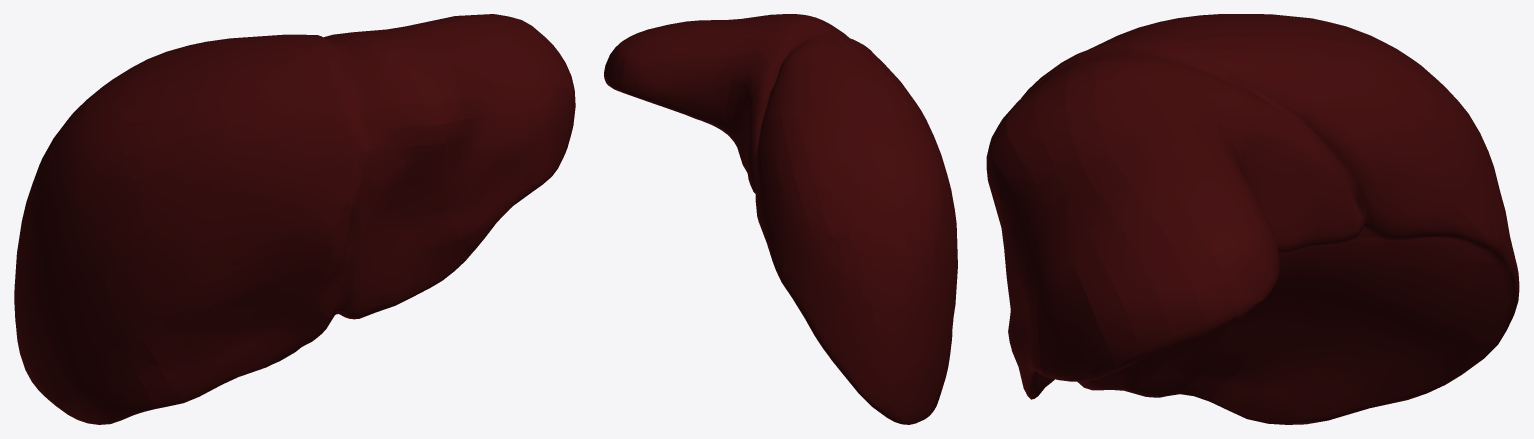
The model's file is organs_liver.obj.
The picture shows the model from 3 angles, left to right: view 1: azimuth 30°, elevation 25°; view 2: azimuth 150°, elevation 25°; view 3: azimuth 270°, elevation 25°; orthographic projection. The views are drawn at different scales.
Visible parts, largest first — view 1: Liver_polySurface1.004; view 2: Liver_polySurface1.004; view 3: Liver_polySurface1.004.
Boxes of the visible parts, <box> form: Liver_polySurface1.004: <box>14,14,575,424</box>; Liver_polySurface1.004: <box>604,14,957,424</box>; Liver_polySurface1.004: <box>986,14,1519,424</box>.
Bounding box in the file's own units: 15.59 × 12.06 × 11.24.
